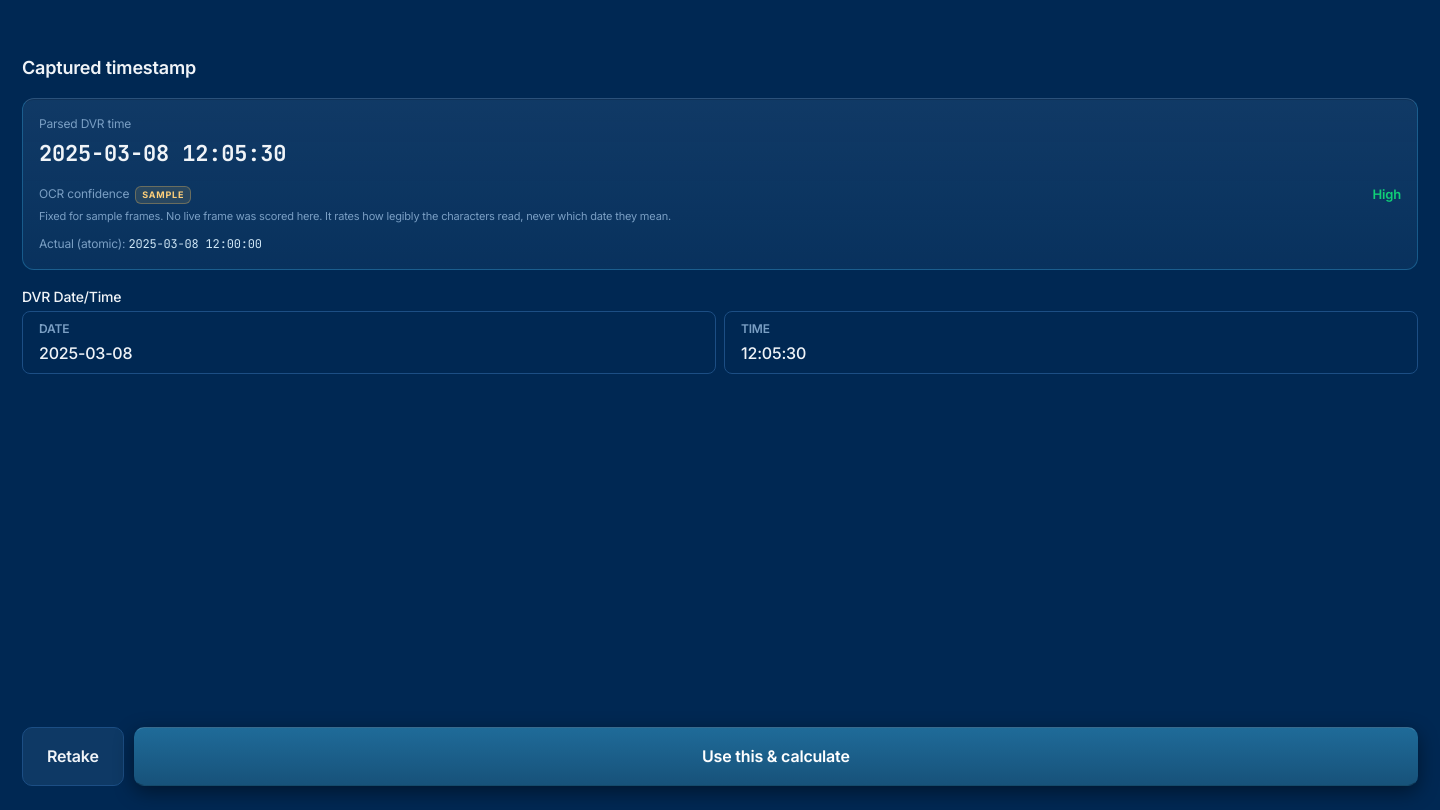
OcrCaptureScreen › recalculate guard (extracted scopes exist) › Escape backs out to the confirm step with the read intact — it is not the Cancel arm
Click the button "Use this & calculate": (776, 757) [134,728,1418,786]
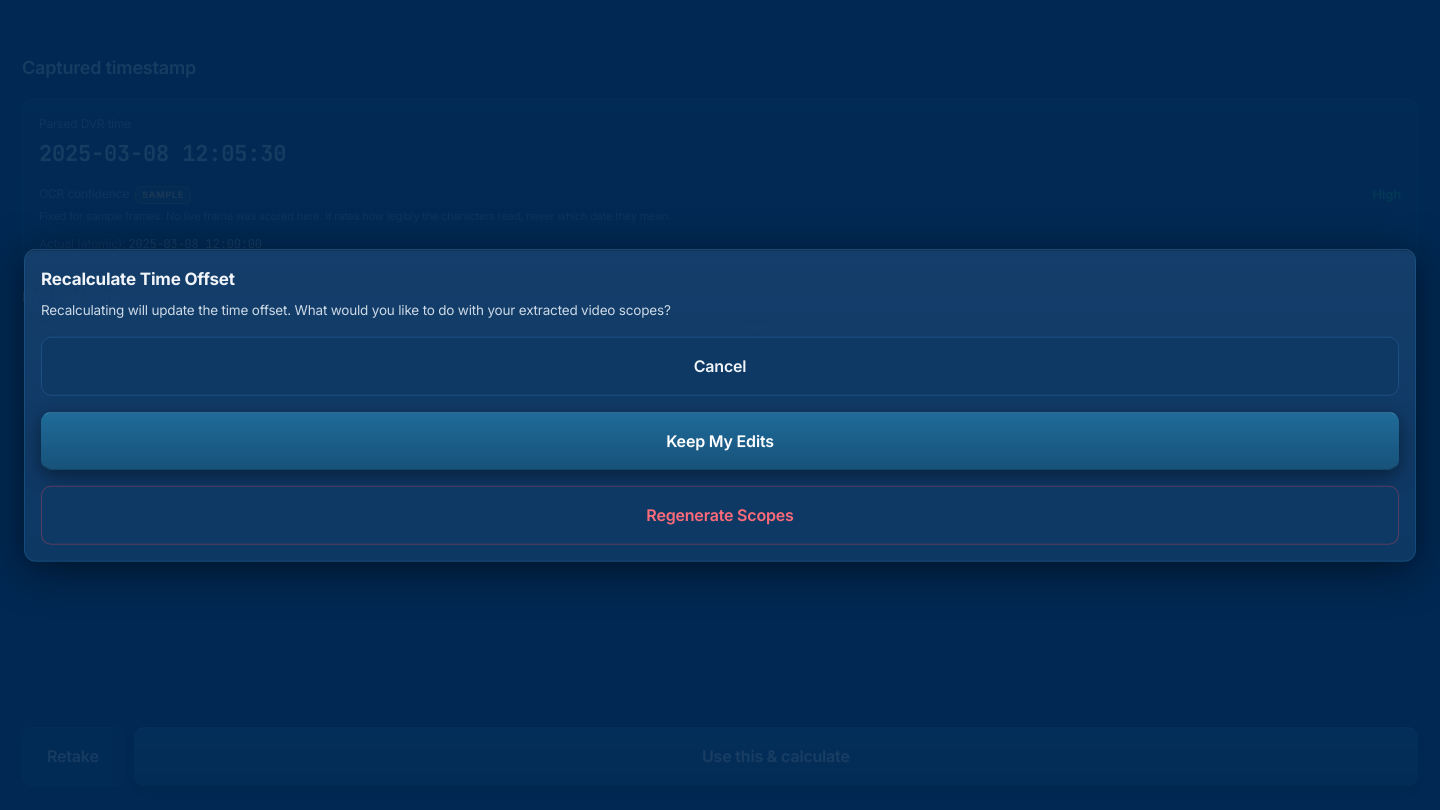
Press Escape
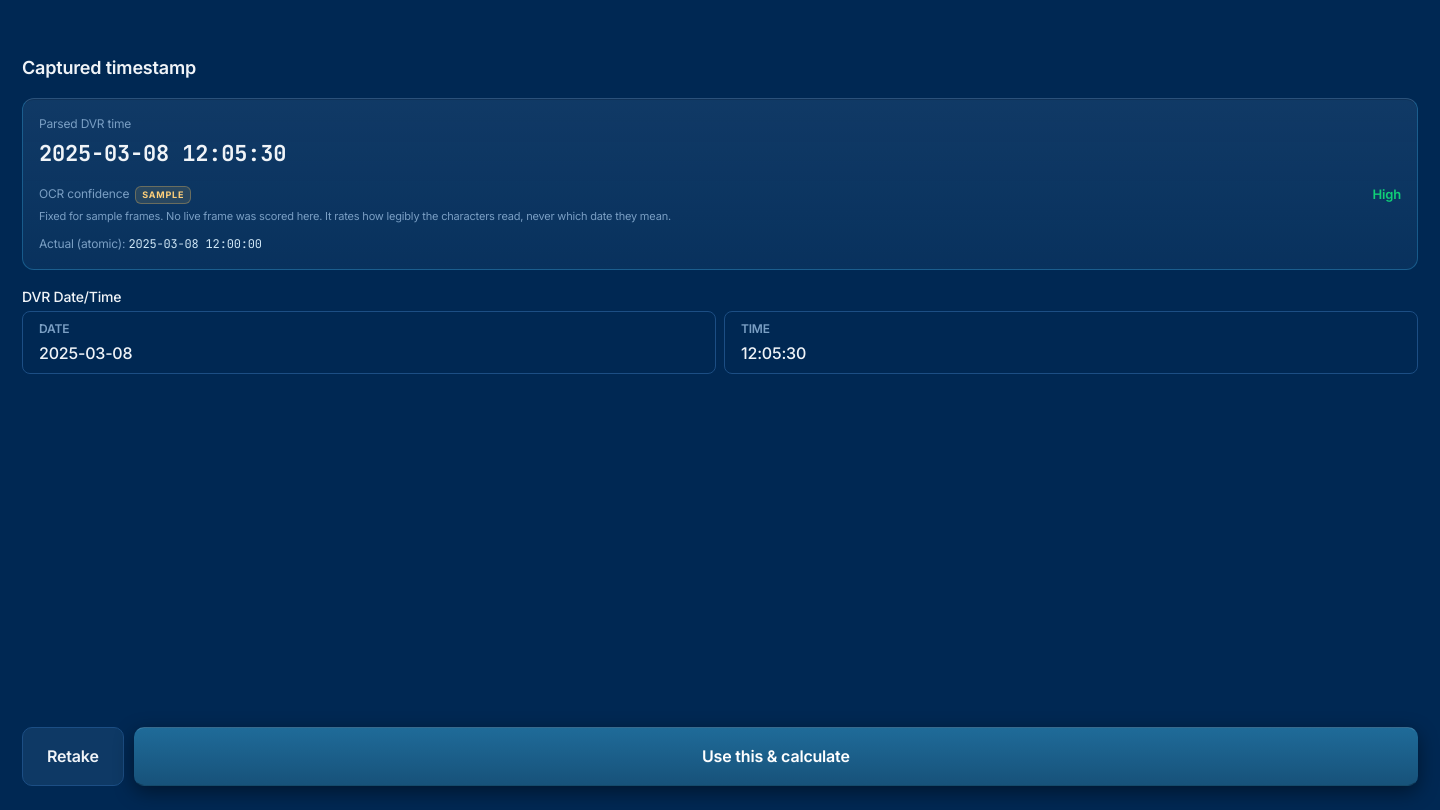
Expected: the button "Use this & calculate" is shown, [134,728,1418,786]
Now the dialog is gone
